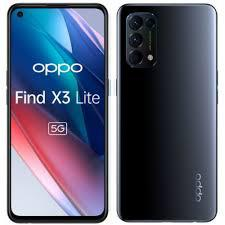Smartphone: (121, 5, 217, 224), (11, 6, 106, 216)
